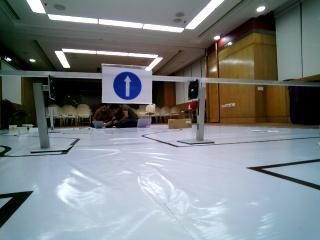straight: (100, 62, 155, 106)
